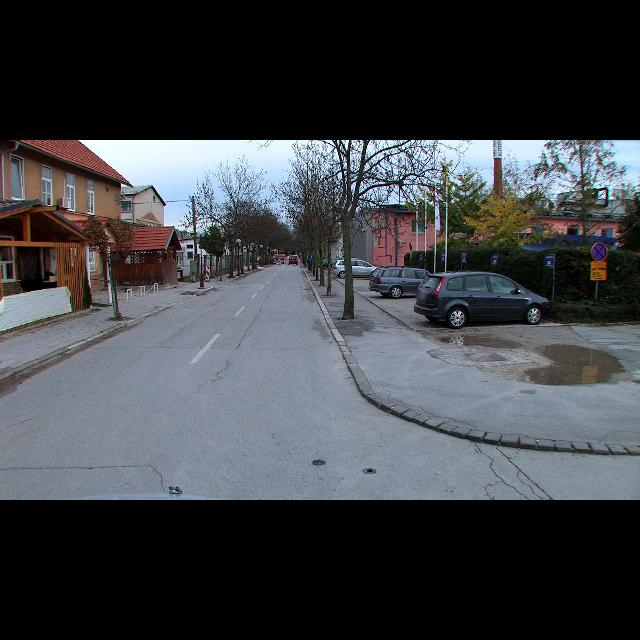Rectangle: (590, 261, 608, 281)
Round: (591, 241, 609, 261)
